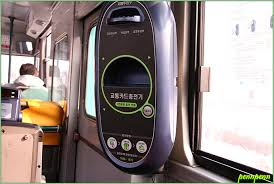terminal: (91, 1, 180, 179)
